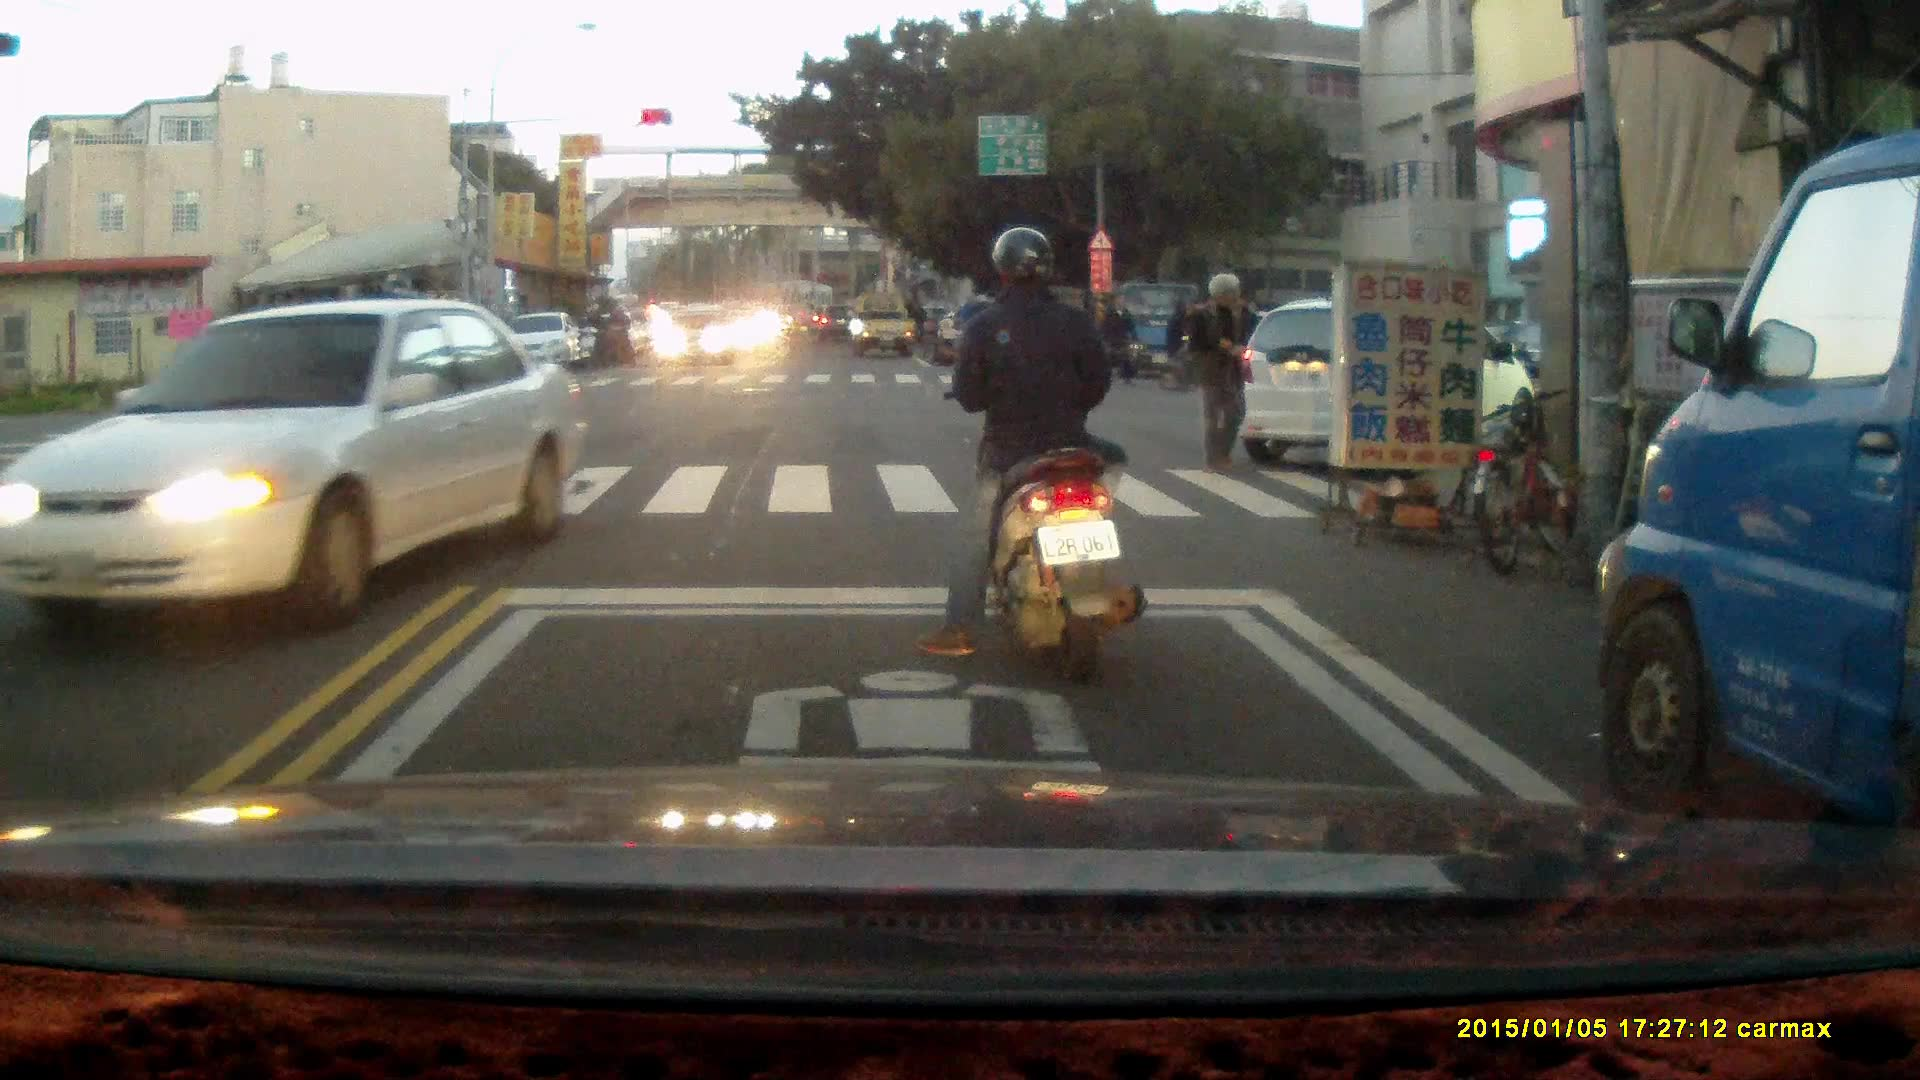pedestrian: (1184, 271, 1253, 474), (1101, 291, 1142, 390), (1163, 293, 1197, 391)
rider: (918, 227, 1149, 685), (594, 300, 632, 368), (577, 301, 612, 372)
vehicle: (1596, 120, 1920, 901), (4, 299, 570, 634), (1236, 303, 1533, 462), (657, 301, 740, 372), (851, 293, 919, 361)
